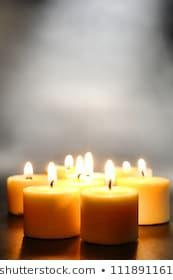fire: (103, 157, 116, 183), (45, 160, 58, 184), (22, 158, 34, 178), (135, 156, 147, 174)
